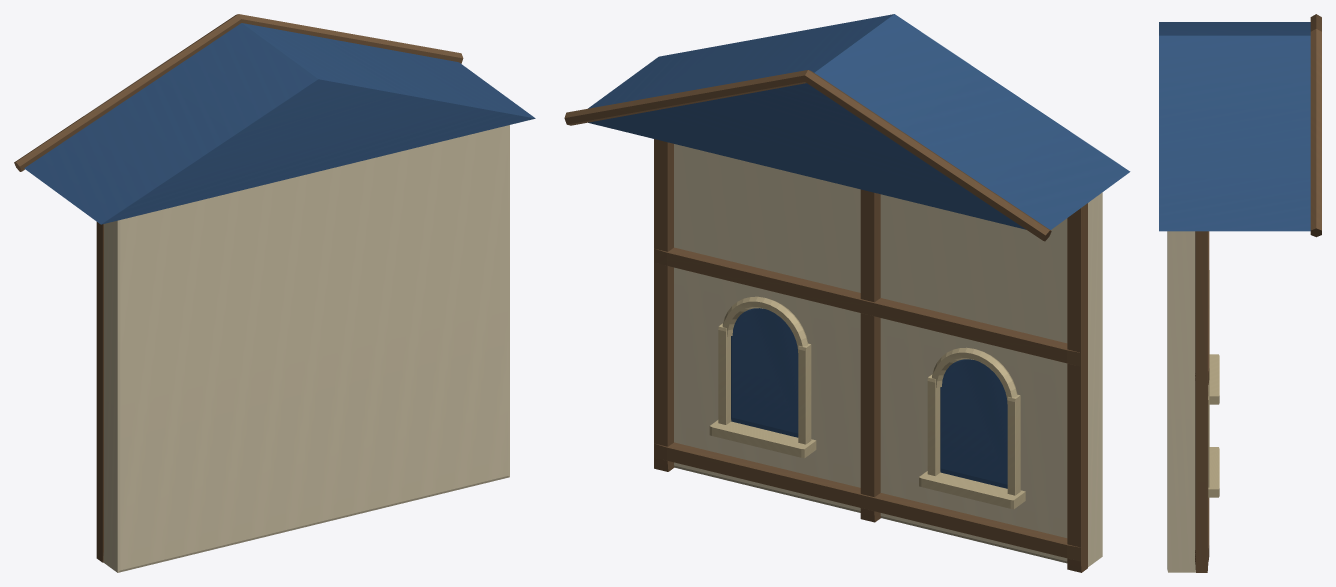
Rendered from SM_WC_DistantFacade.fbx.
3 views of the same model, side by side, from view 1: azimuth 30°, elevation 25°; view 2: azimuth 150°, elevation 25°; view 3: azimuth 270°, elevation 25° (orthographic). The views are drawn at different scales.
Parts seen in each view (by area): view 1: SM_WC_DistantFacade; view 2: SM_WC_DistantFacade; view 3: SM_WC_DistantFacade.
Part boxes in pixels (x1=…): SM_WC_DistantFacade: x1=14, y1=14, x2=535, y2=572; SM_WC_DistantFacade: x1=564, y1=14, x2=1130, y2=572; SM_WC_DistantFacade: x1=1159, y1=14, x2=1321, y2=572.
Bounding box in the file's own units: 5.45 × 1.75 × 5.33.
